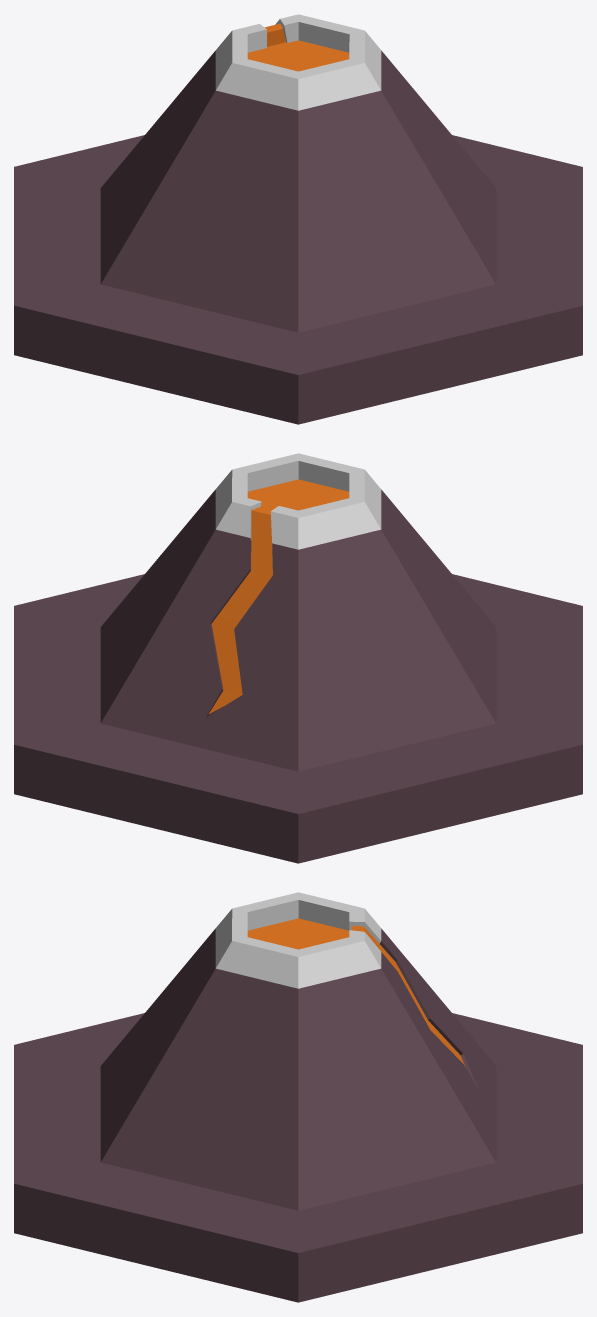
Rendered from Planet_Vulcano_Hexagon.fbx.
3 views of the same model, one above another, from view 1: azimuth 30°, elevation 25°; view 2: azimuth 150°, elevation 25°; view 3: azimuth 270°, elevation 25° (orthographic).
Parts seen in each view (by area): view 1: HexVulc; view 2: HexVulc; view 3: HexVulc.
Boxes of the visible parts, left/top/right/bottom form: HexVulc: left=14, top=14, right=582, bottom=424; HexVulc: left=14, top=453, right=582, bottom=863; HexVulc: left=14, top=892, right=582, bottom=1302.
Size of the model in its own units: 6.28 by 2.52 by 5.44.
